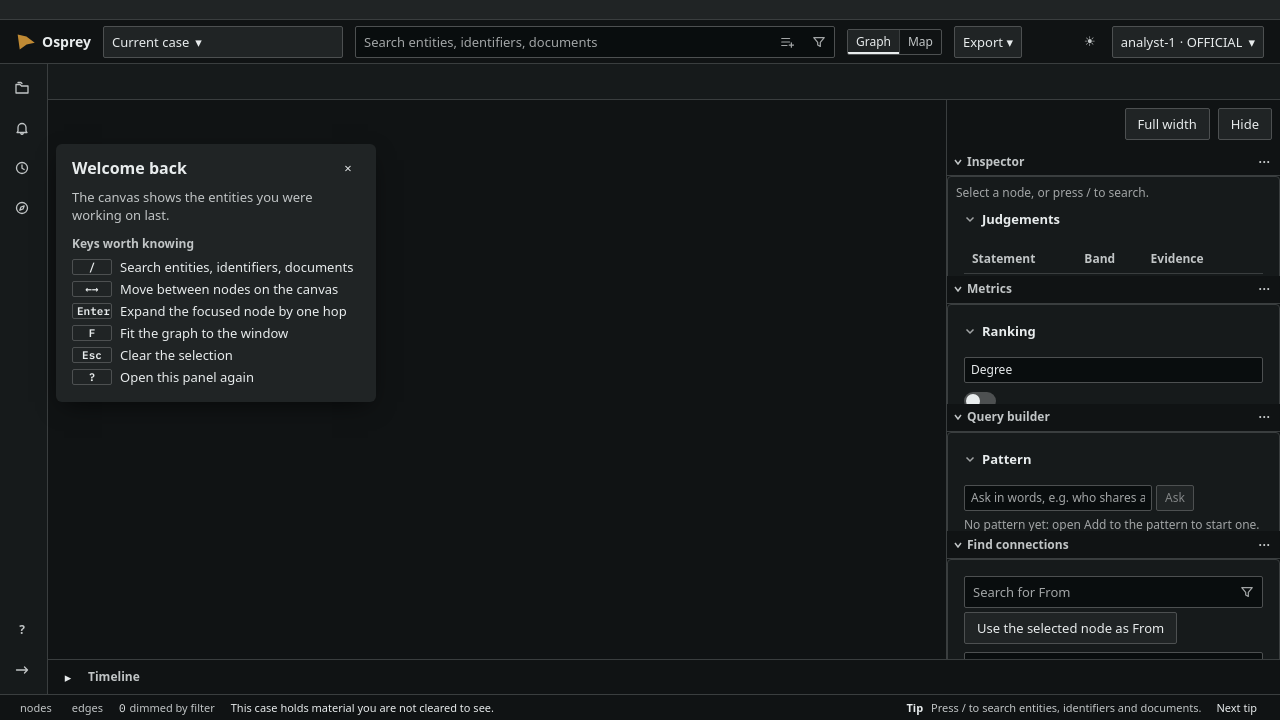
the tab the launcher asked for is the tab the Glass opens on › the standing sentence from one case is gone when another case opens, before it sends anything
Expected: the text "This case holds material you are not cleared to see." is shown, [231,700,494,714]
Click the button named "Watches": [24, 128] box [6,110,42,146]
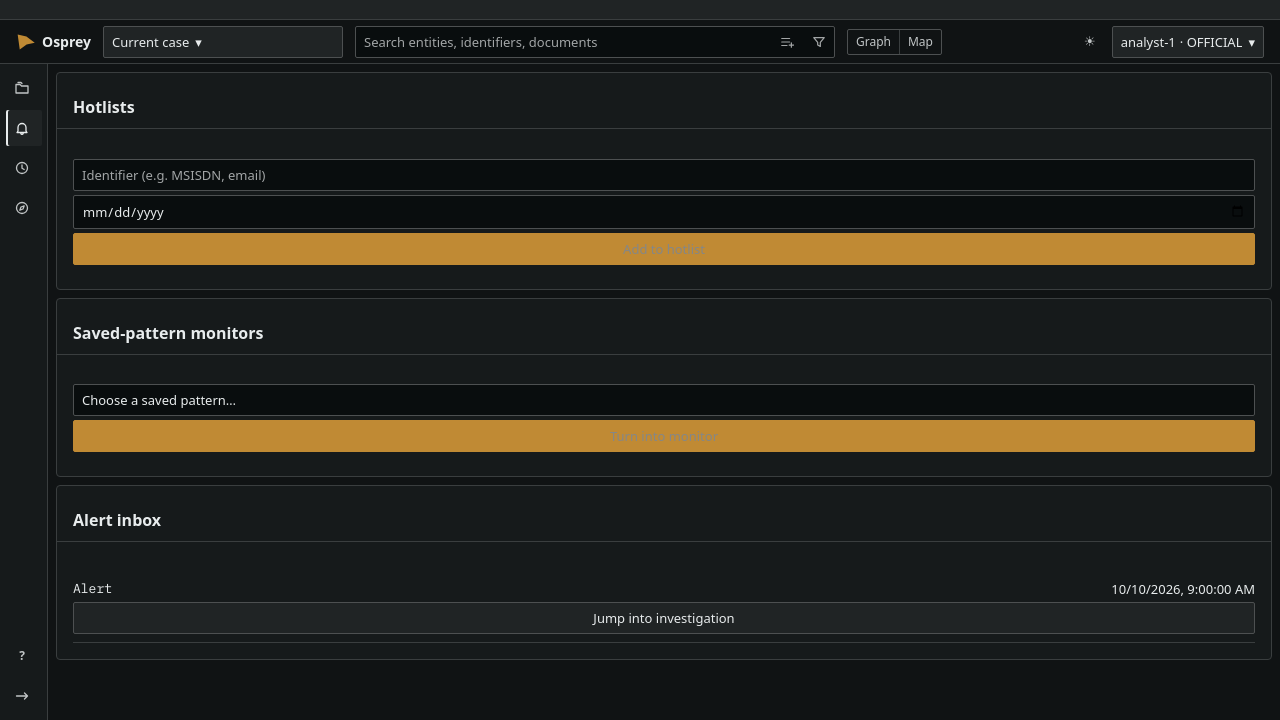
Click the button "Jump into investigation": [664, 618] box [73,602,1255,634]
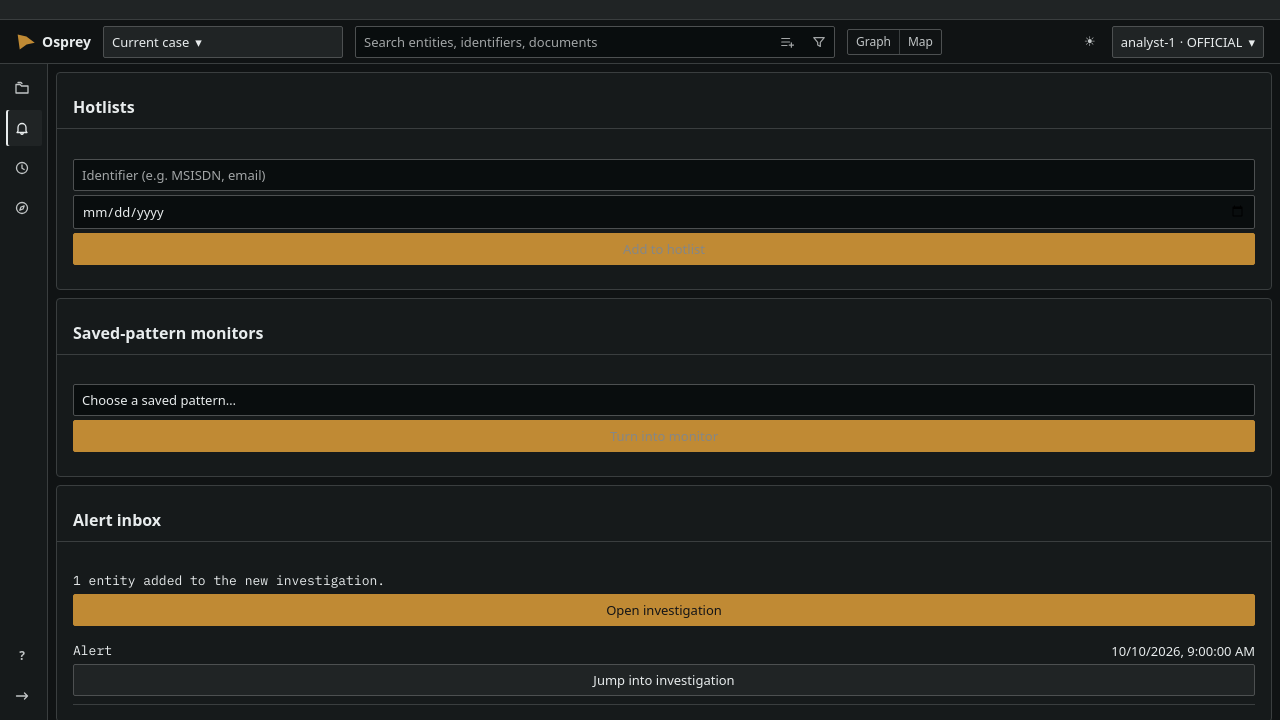
Click the button "Open investigation": [664, 610] box [73,594,1255,626]
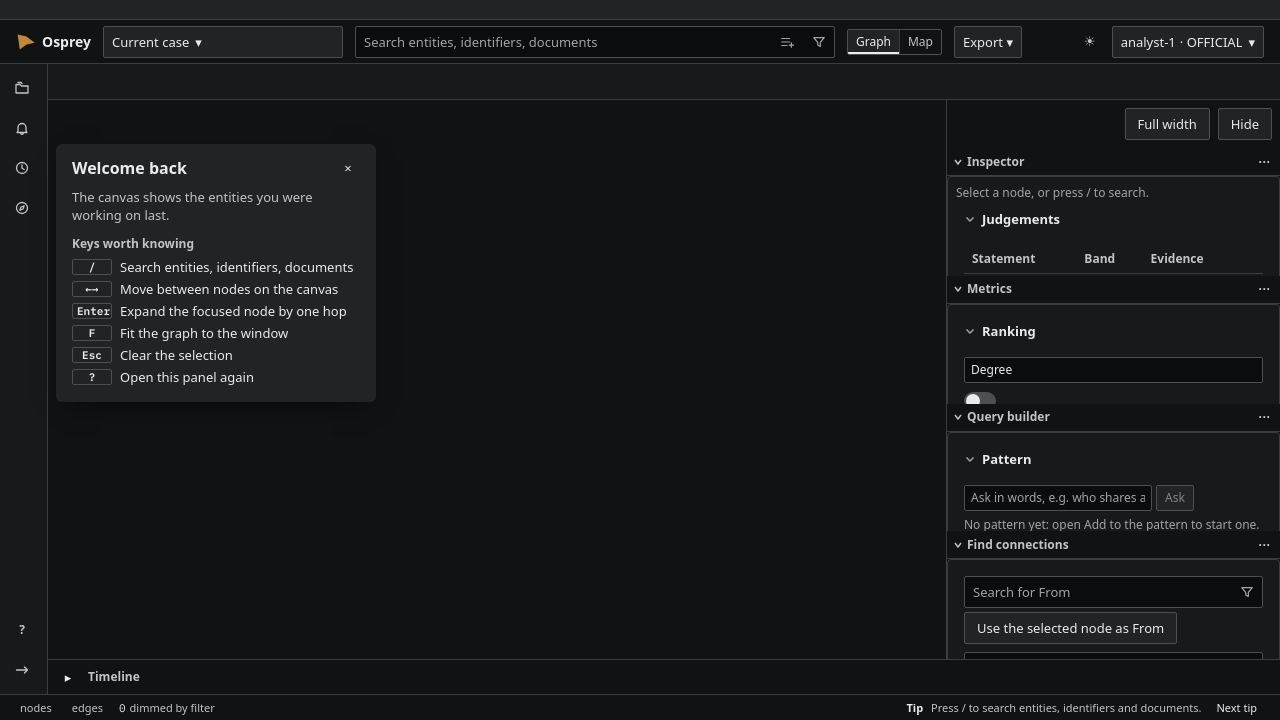
Expected: the text "This case holds material you are not cleared to see." is not shown
Expected: the message "nodes edges 0 dimmed by filter" is shown, [16,700,215,714]
